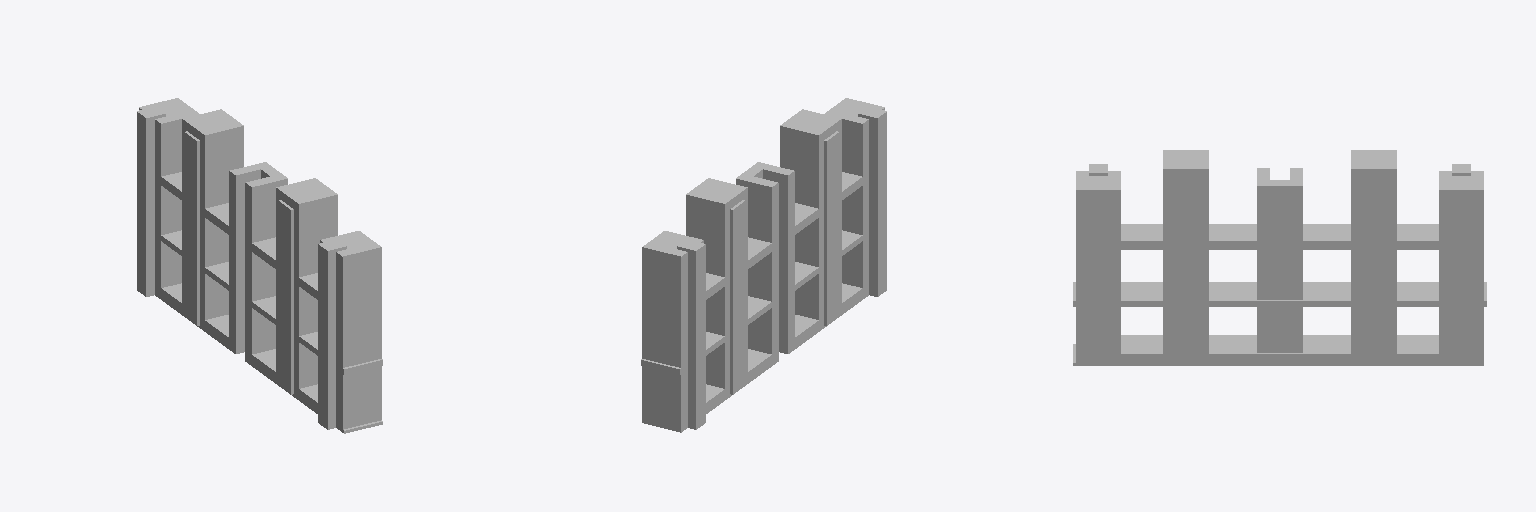
The model's file is vorota.obj.
3 views of the same model, side by side, from view 1: azimuth 30°, elevation 25°; view 2: azimuth 150°, elevation 25°; view 3: azimuth 270°, elevation 25° (orthographic).
Visible parts, largest first — view 1: object 1; view 2: object 1; view 3: object 1.
Boxes of the visible parts, x1=… form: object 1: x1=137, y1=98, x2=382, y2=433; object 1: x1=641, y1=98, x2=886, y2=432; object 1: x1=1073, y1=150, x2=1486, y2=365.
Bounding box in the file's own units: 1.7 × 6.7 × 12.8.